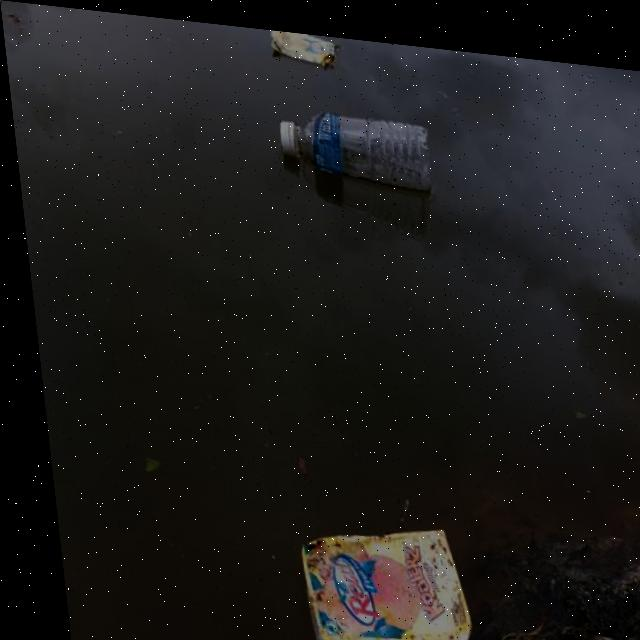paper: (280, 498, 453, 640), (266, 24, 360, 73)
waterbottle: (253, 93, 434, 214)
